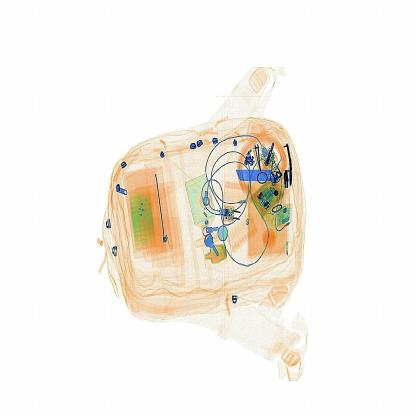pliers: (234, 159, 286, 192)
